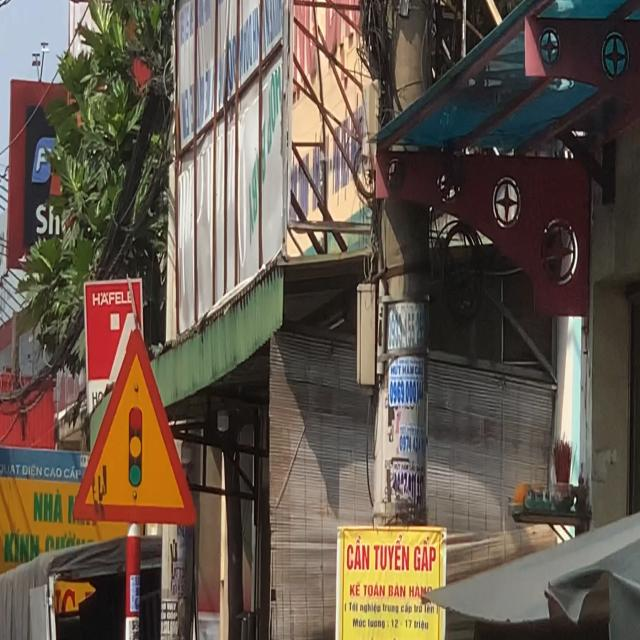Nguy hiem: (72, 326, 198, 529)
